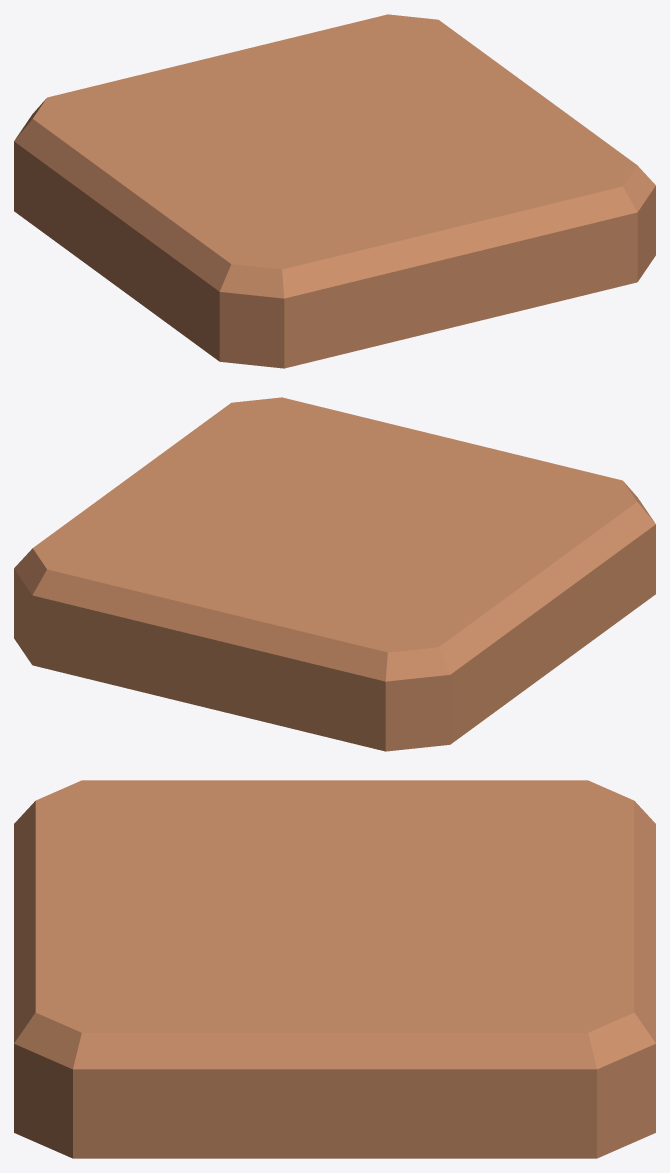
File: ground_tile_white.obj
The picture shows the model from 3 angles, top to bottom: view 1: azimuth 30°, elevation 25°; view 2: azimuth 150°, elevation 25°; view 3: azimuth 270°, elevation 25°; orthographic projection. The views are drawn at different scales.
Parts seen in each view (by area): view 1: floor_tile_white; view 2: floor_tile_white; view 3: floor_tile_white.
Boxes of the visible parts, x1,y1,x2,y2 form: floor_tile_white: [14, 14, 655, 368]; floor_tile_white: [14, 397, 655, 751]; floor_tile_white: [14, 780, 655, 1158].
Bounding box in the file's own units: 1 × 0.2 × 1.
